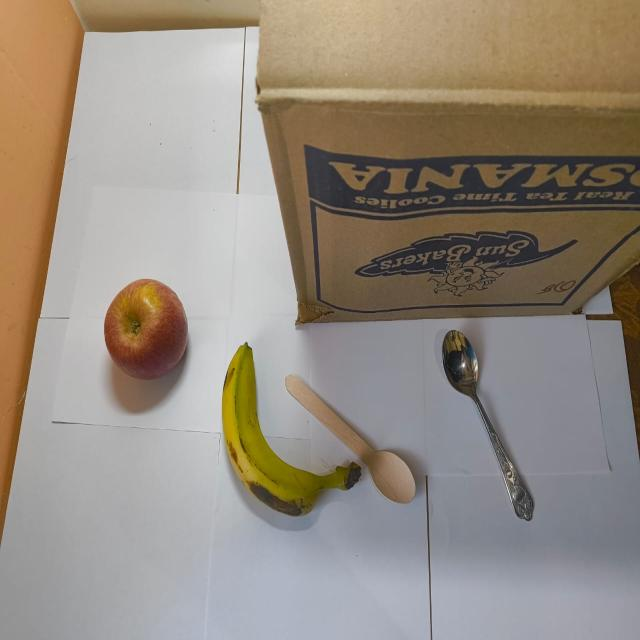Apple-Bio: (104, 277, 190, 381)
Banana-Bio: (220, 342, 362, 520)
CardBoard-Bio: (254, 0, 639, 334)
Steel-NonBio: (441, 329, 570, 522)
Wooden Spoon-Bio: (284, 371, 418, 506)
